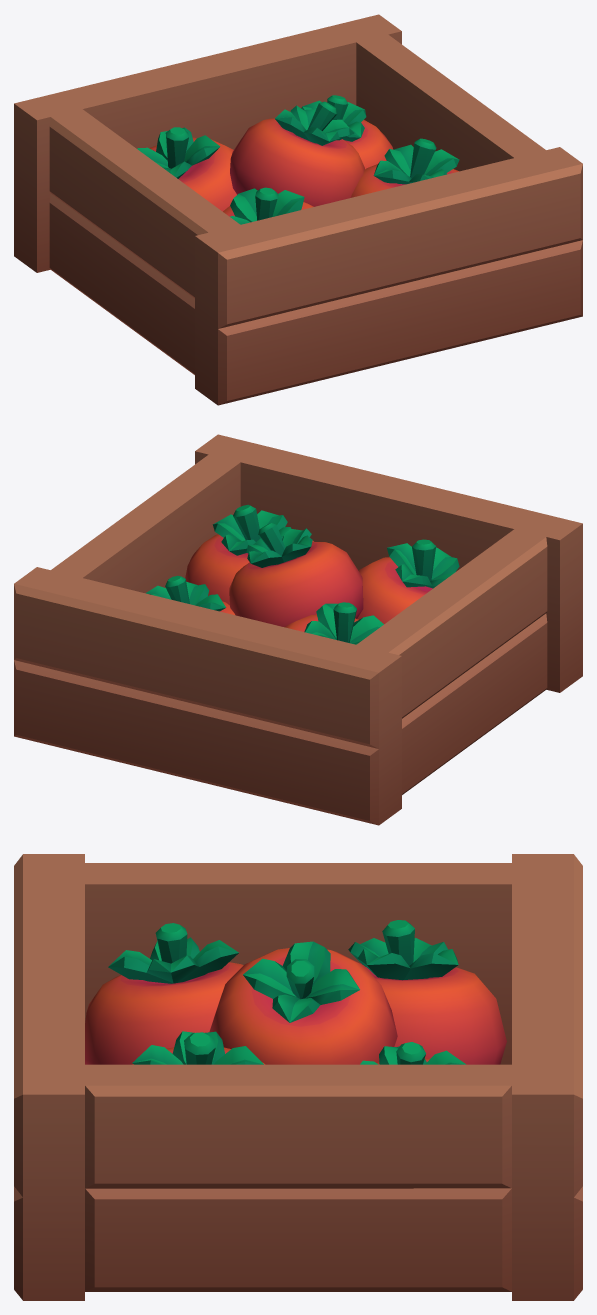
File: prop_crate_tomatoes.glb
3 renders of one model, top to bottom at view 1: azimuth 30°, elevation 25°; view 2: azimuth 150°, elevation 25°; view 3: azimuth 270°, elevation 25°, orthographic. The views are drawn at different scales.
Parts seen in each view (by area): view 1: crate_tomatoes; view 2: crate_tomatoes; view 3: crate_tomatoes.
Boxes of the visible parts, x1,y1,x2,y2 form: crate_tomatoes: [14, 14, 582, 405]; crate_tomatoes: [14, 434, 582, 825]; crate_tomatoes: [14, 854, 582, 1300].
Bounding box in the file's own units: 2 × 0.9232 × 2.
Materials: 1 (1 with a texture image).
